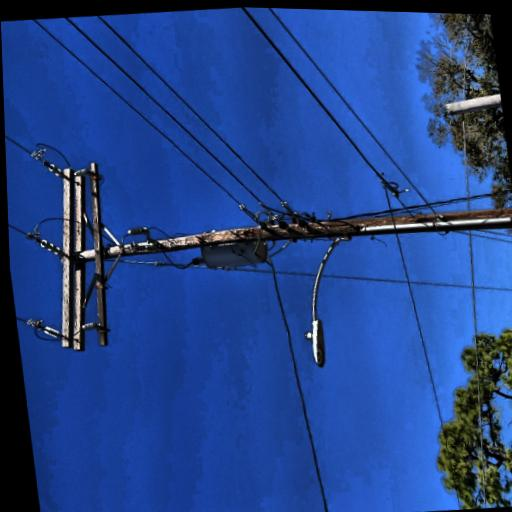pole: (108, 183, 176, 512)
street light: (34, 437, 161, 512)
transformer: (116, 333, 158, 413)
